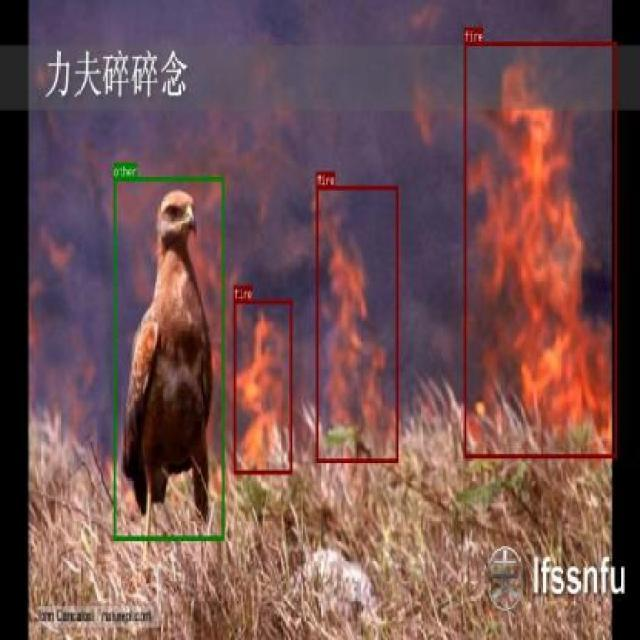Fire: (464, 40, 616, 458), (316, 185, 398, 462), (233, 299, 292, 473)
